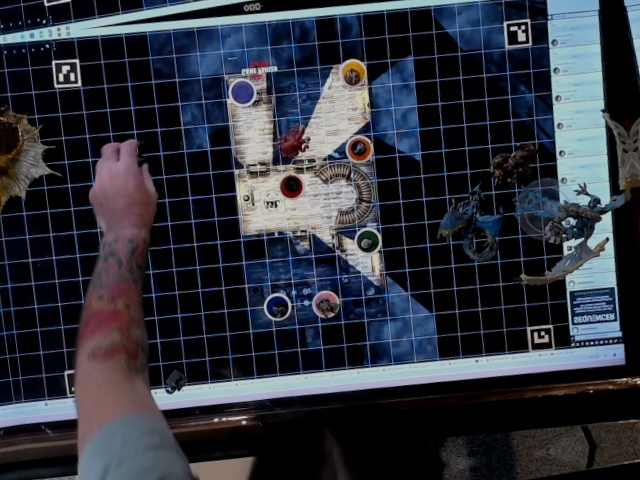blue: (261, 286, 296, 323)
green: (353, 224, 386, 253)
orange: (344, 131, 375, 160)
pink: (308, 282, 345, 318)
red: (275, 167, 308, 200)
violet: (226, 74, 260, 112)
yellow: (333, 54, 371, 88)
